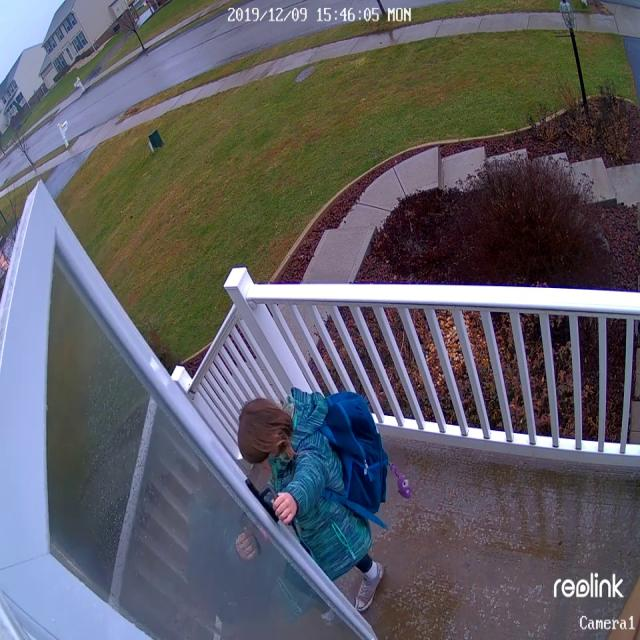child: (235, 389, 389, 612)
